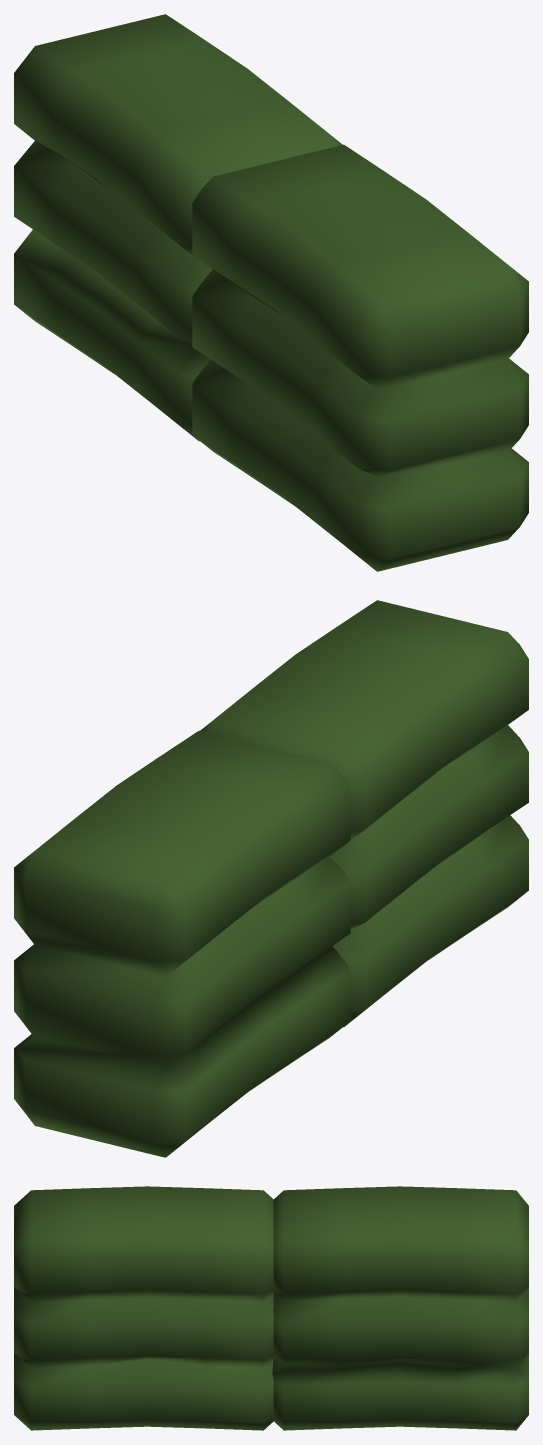
Rendered from WoodlandSandbags.obj.
3 renders of one model, top to bottom at view 1: azimuth 30°, elevation 25°; view 2: azimuth 150°, elevation 25°; view 3: azimuth 270°, elevation 25°, orthographic. The views are drawn at different scales.
Visible parts, largest first — view 1: WoodlandSandbags_Cube.009; view 2: WoodlandSandbags_Cube.009; view 3: WoodlandSandbags_Cube.009.
Boxes of the visible parts, box(x1,y1,x2,y2) form: WoodlandSandbags_Cube.009: box(14, 14, 528, 571); WoodlandSandbags_Cube.009: box(14, 600, 528, 1157); WoodlandSandbags_Cube.009: box(14, 1186, 528, 1430).
Bounding box in the file's own units: 0.7004 × 1.09 × 2.55.
